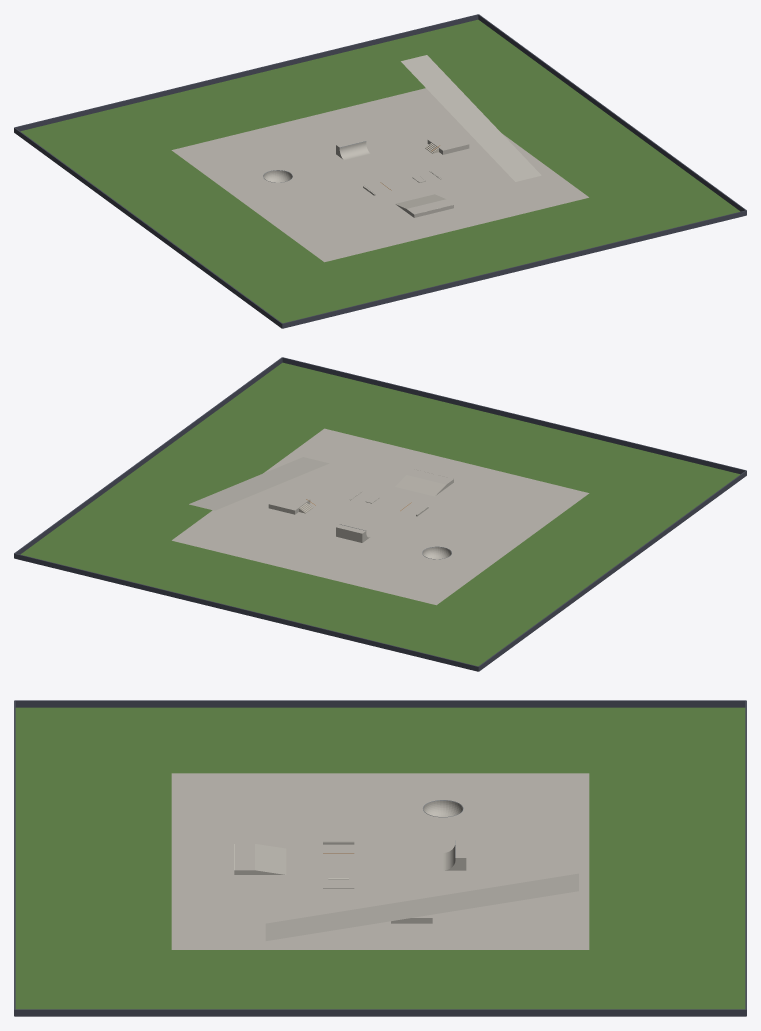
The model's file is spot_ovningsplanen.glb.
The picture shows the model from 3 angles, top to bottom: view 1: azimuth 30°, elevation 25°; view 2: azimuth 150°, elevation 25°; view 3: azimuth 270°, elevation 25°; orthographic projection. The views are drawn at different scales.
Parts seen in each view (by area): view 1: spot_ovningsplanen; view 2: spot_ovningsplanen; view 3: spot_ovningsplanen.
Part boxes in pixels (x1=…): spot_ovningsplanen: x1=14, y1=14, x2=746, y2=328; spot_ovningsplanen: x1=14, y1=357, x2=746, y2=671; spot_ovningsplanen: x1=14, y1=700, x2=746, y2=1016.
Bounding box in the file's own units: 140 × 13.28 × 140.
1 material, 1 textured.
